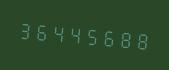eight: (119, 23, 135, 54), (136, 24, 152, 55)
five: (85, 20, 101, 51)
four: (51, 17, 67, 48), (68, 18, 84, 49)
six: (34, 15, 50, 46), (102, 21, 118, 52)
three: (17, 14, 33, 45)
